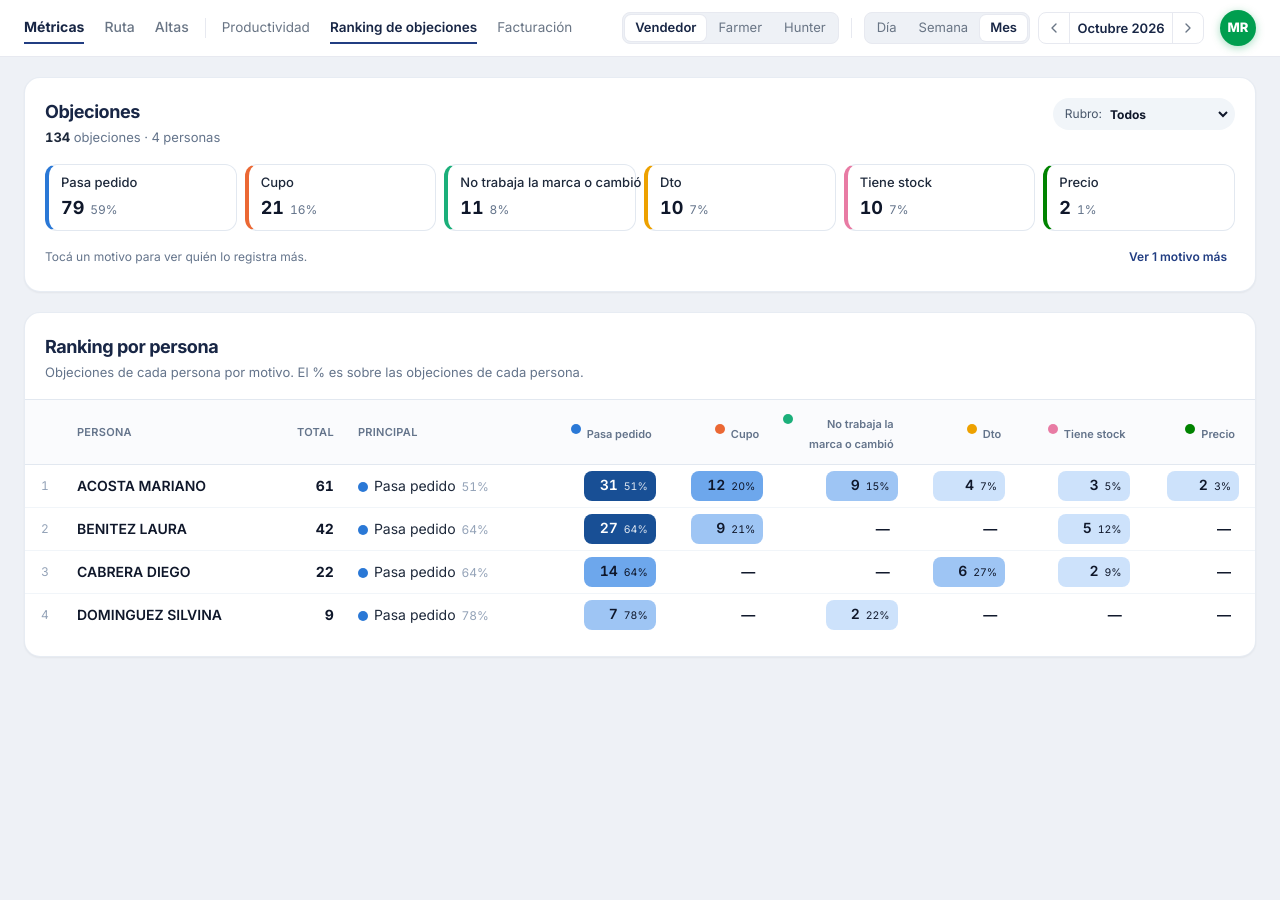
Ranking de objeciones › la tarjeta muestra 6 motivos de los vendedores y pliega el resto
Check: the button with test id "motivo-2" is shown, box top-left (45, 164), bottom-right (237, 231)
Click the button "Ver 1 motivo más": [1178, 257] box top-left (1121, 243), bottom-right (1235, 271)
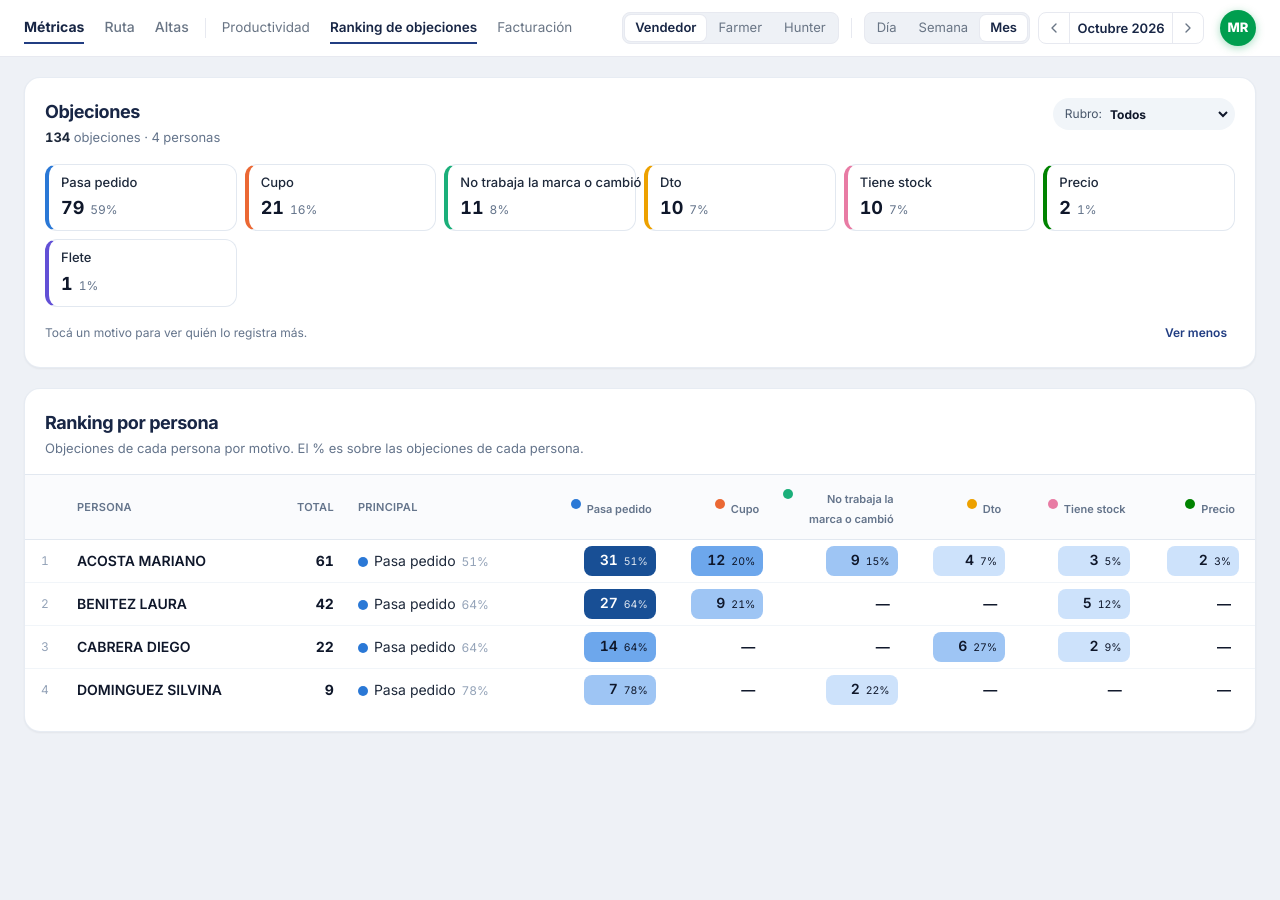
Check: the button with test id "motivo-8" is shown, box top-left (45, 239), bottom-right (237, 306)
